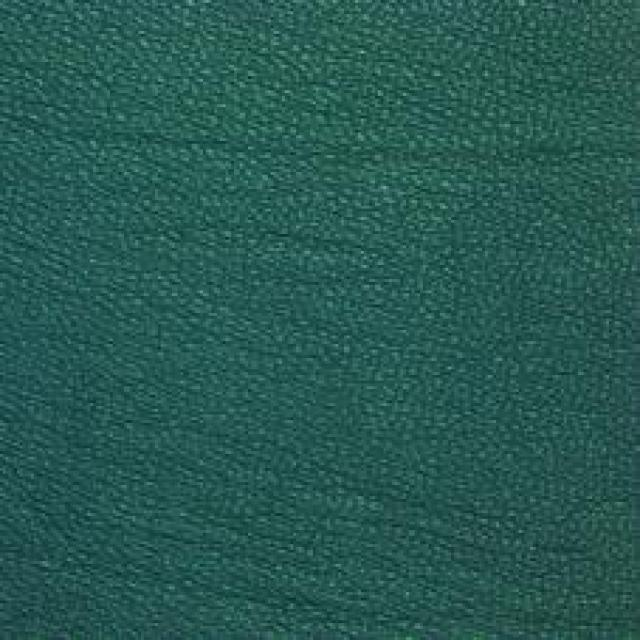Growth Marks: (306, 104, 581, 214), (94, 98, 267, 188)
